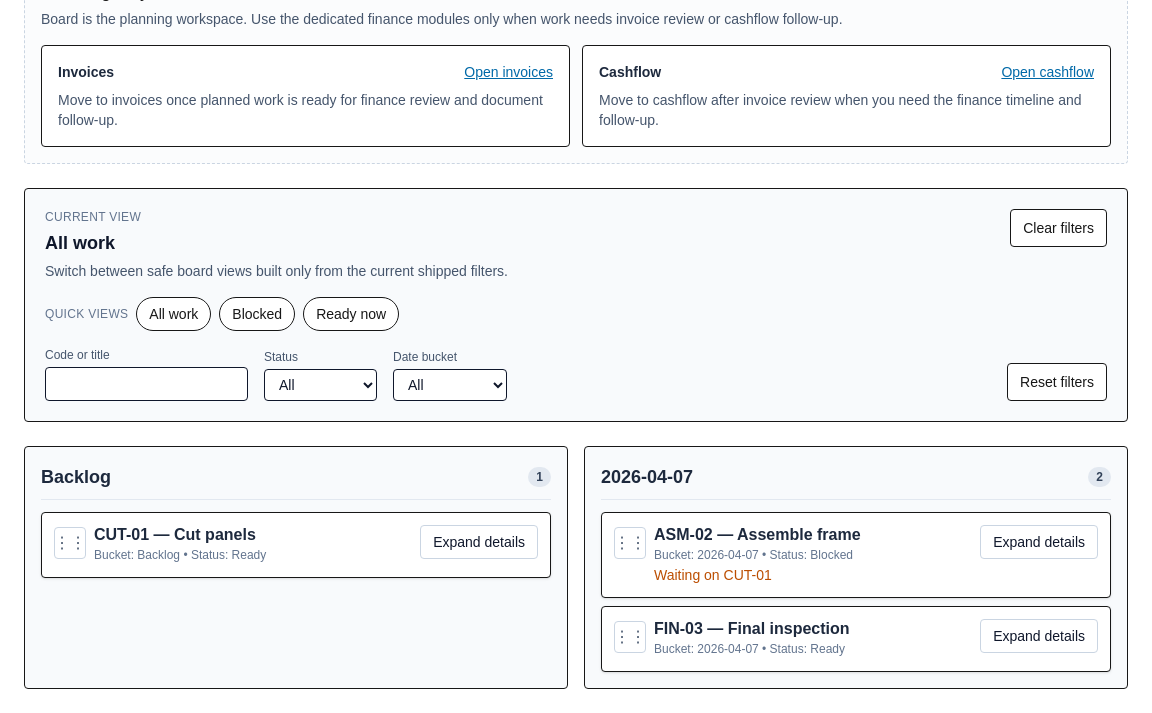
Test: extracted shared workspace harness › reloads the board state after a reorder conflict
(page scrolled)
Click the button "Expand details" next to "Bucket: Backlog • Status: Ready" at (479, 542), box left=420, top=525, right=538, bottom=559
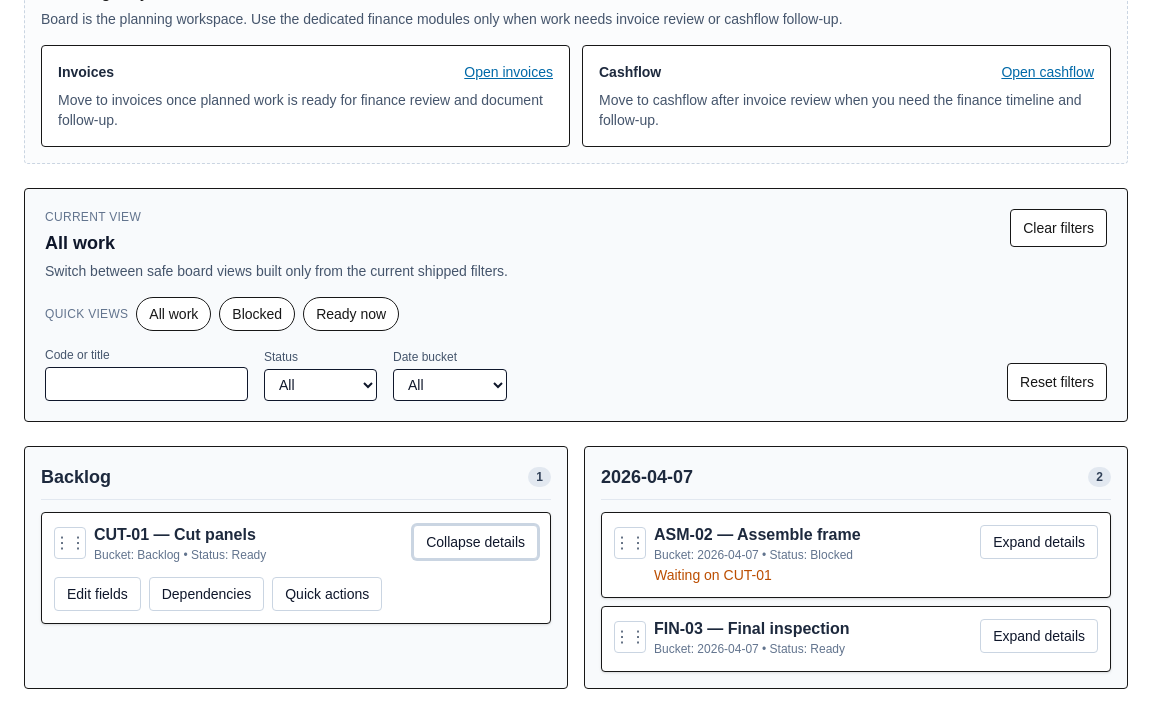
Click the button "Quick actions" at (327, 594), box left=272, top=577, right=382, bottom=611
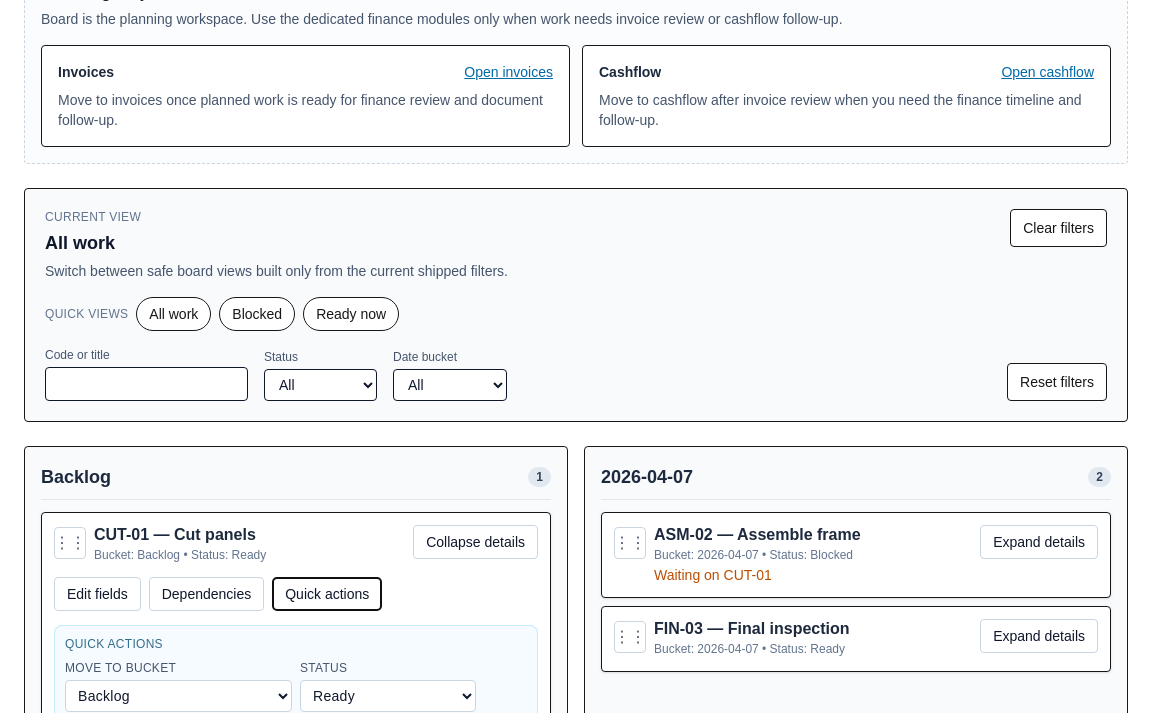
Select "2026-04-07" in the dropdown labelled "Move to bucket" at (178, 696), box left=65, top=680, right=292, bottom=712
(page scrolled)
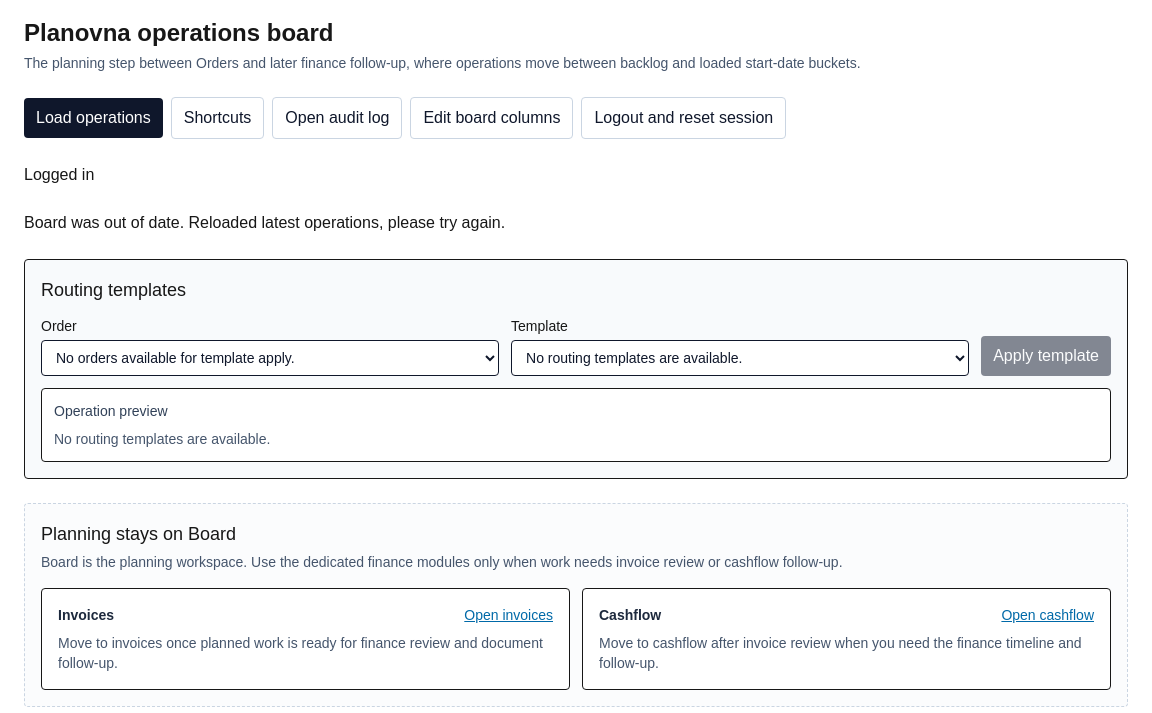
expect the text "Board was out of date. Reloaded latest operations, please try again." is shown: met, box left=24, top=214, right=505, bottom=231
